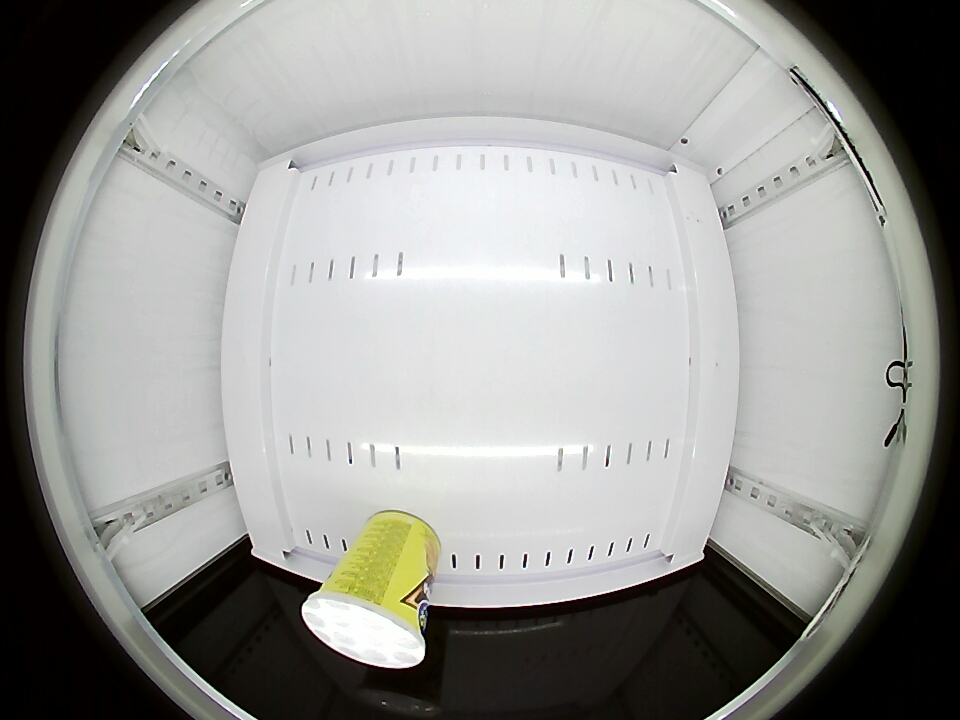kebike: (302, 575, 429, 668)
